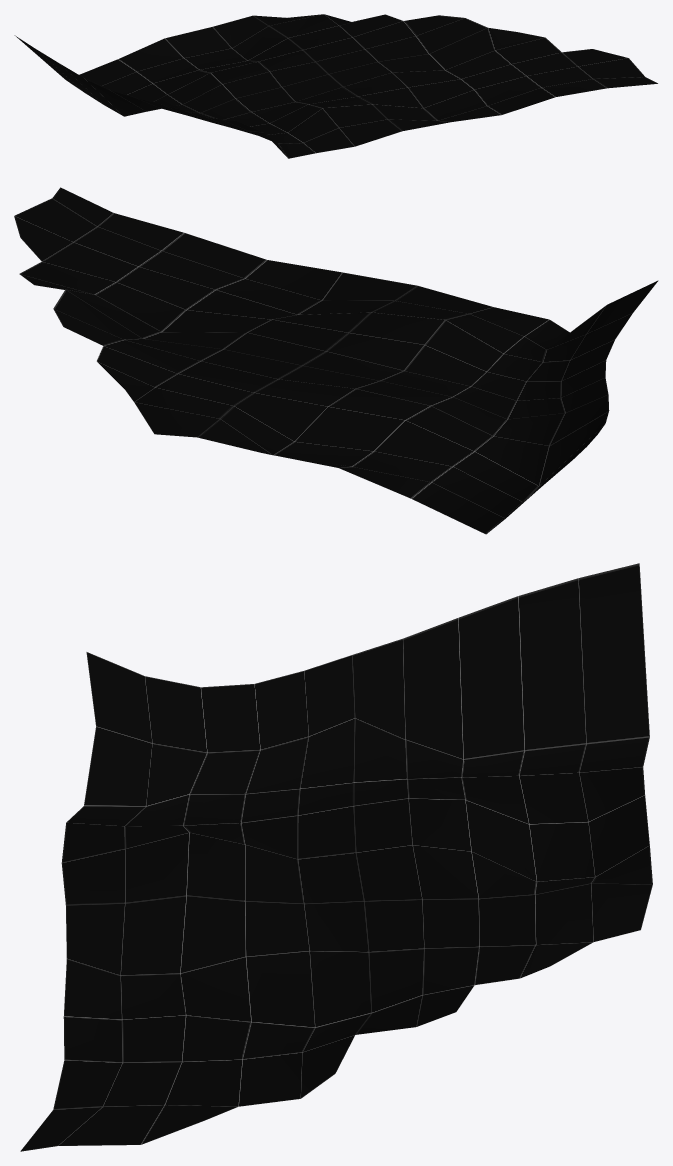
Rendered from solarPanelDamaged.fbx.
3 renders of one model, top to bottom at view 1: azimuth 30°, elevation 25°; view 2: azimuth 150°, elevation 25°; view 3: azimuth 270°, elevation 25°, orthographic. The views are drawn at different scales.
Parts seen in each view (by area): view 1: solarPanel_damaged; view 2: solarPanel_damaged; view 3: solarPanel_damaged.
Boxes of the visible parts, x1,y1,x2,y2 form: solarPanel_damaged: [14, 14, 657, 158]; solarPanel_damaged: [14, 187, 658, 534]; solarPanel_damaged: [20, 563, 652, 1151].
Bounding box in the file's own units: 20.95 × 2.69 × 11.71.
